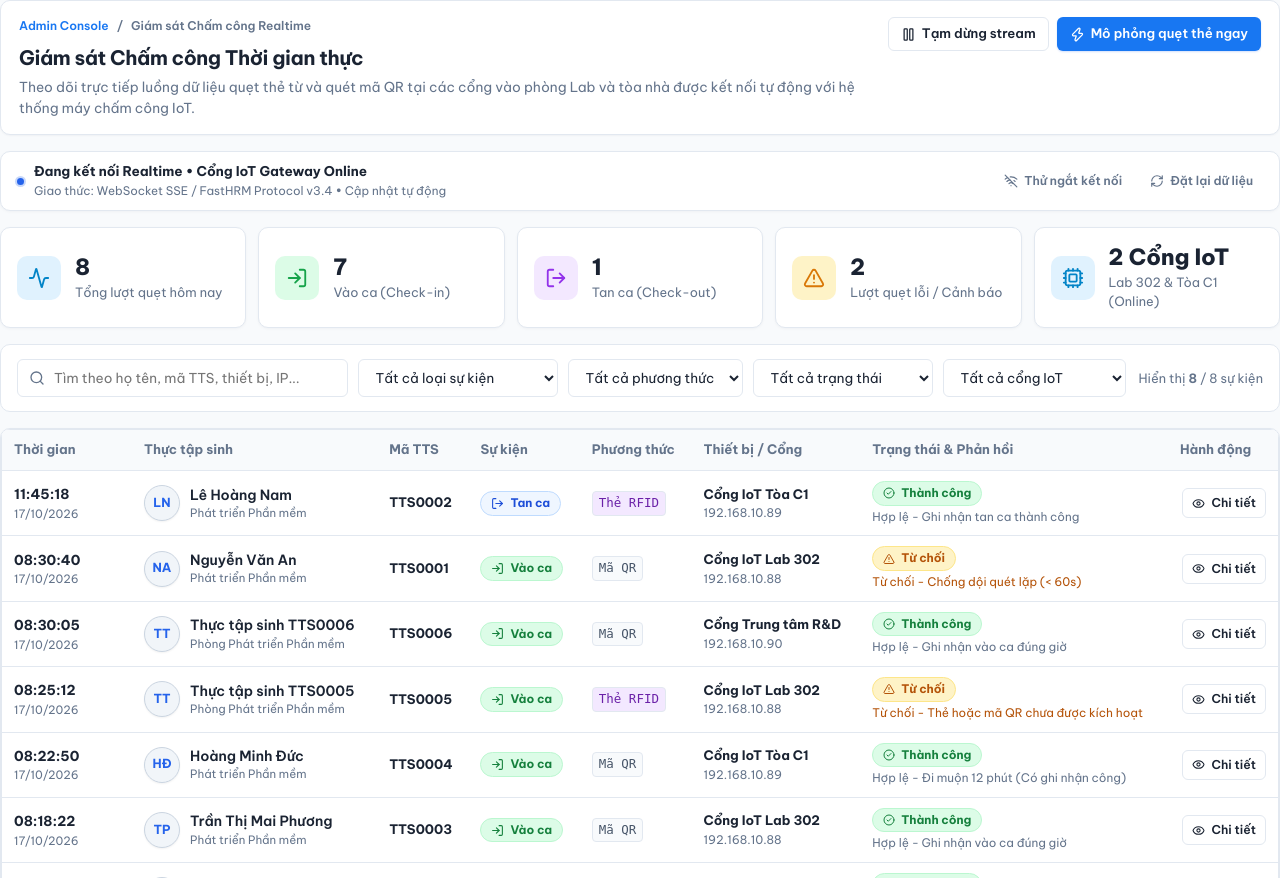
Test: RealtimeAttendanceMonitorPage - Màn hình Giám sát Chấm công Realtime › 10. Xử lý trạng thái Mất kết nối (Disconnected) và Kết nối lại (Reconnected)
The width and height of the screenshot is (1280, 878).
# Bấm nút thử ngắt kết nối
Click the button "Thử ngắt kết nối" at (1063, 181), box [994,166,1132,196]
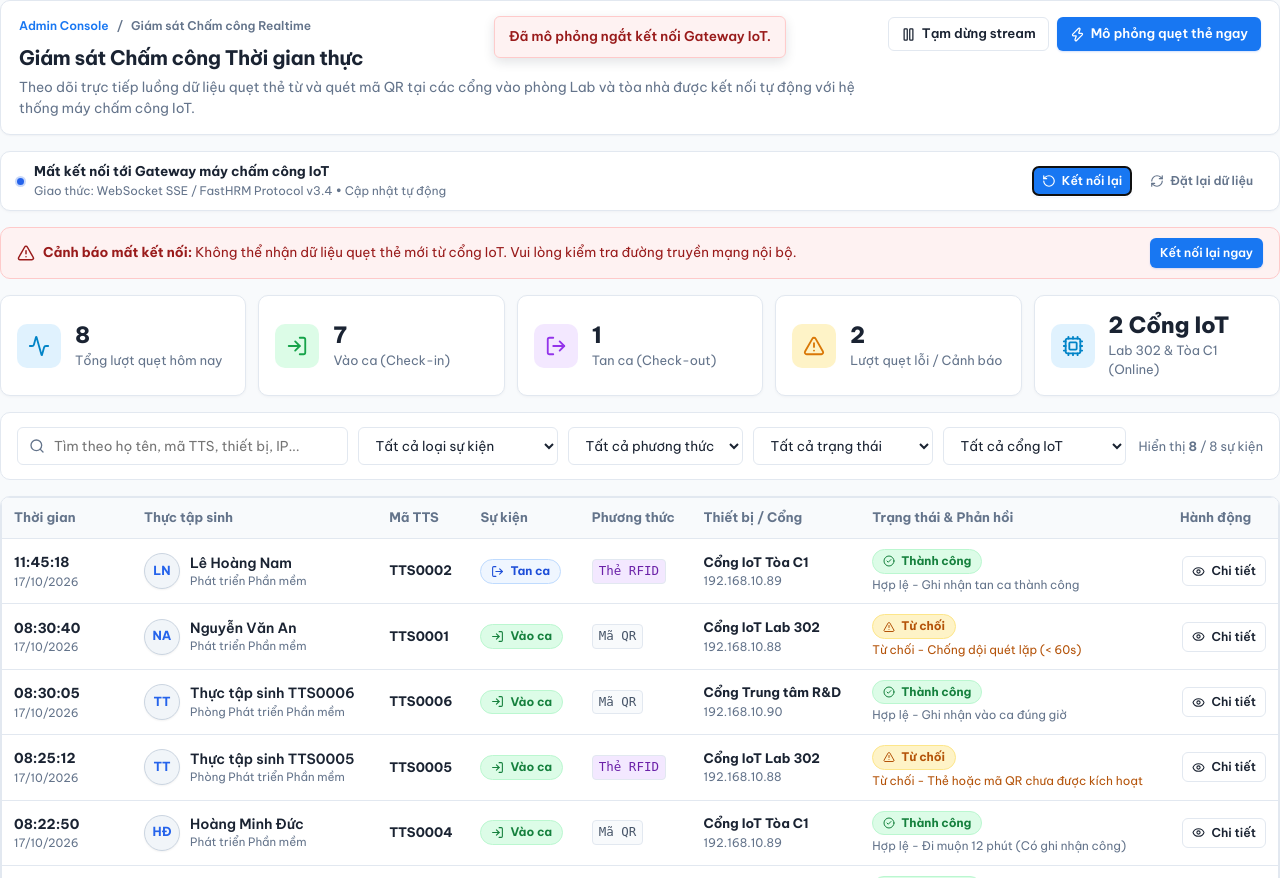
Expected: the element with test id "status-dot-disconnected" is shown, [17,178,24,185]
Expected: the text "Cảnh báo mất kết nối:" is shown, [43,244,192,261]
# Bấm nút kết nối lại
Click the button with test id "reconnect-btn" at (1082, 181), box [1032,166,1132,196]
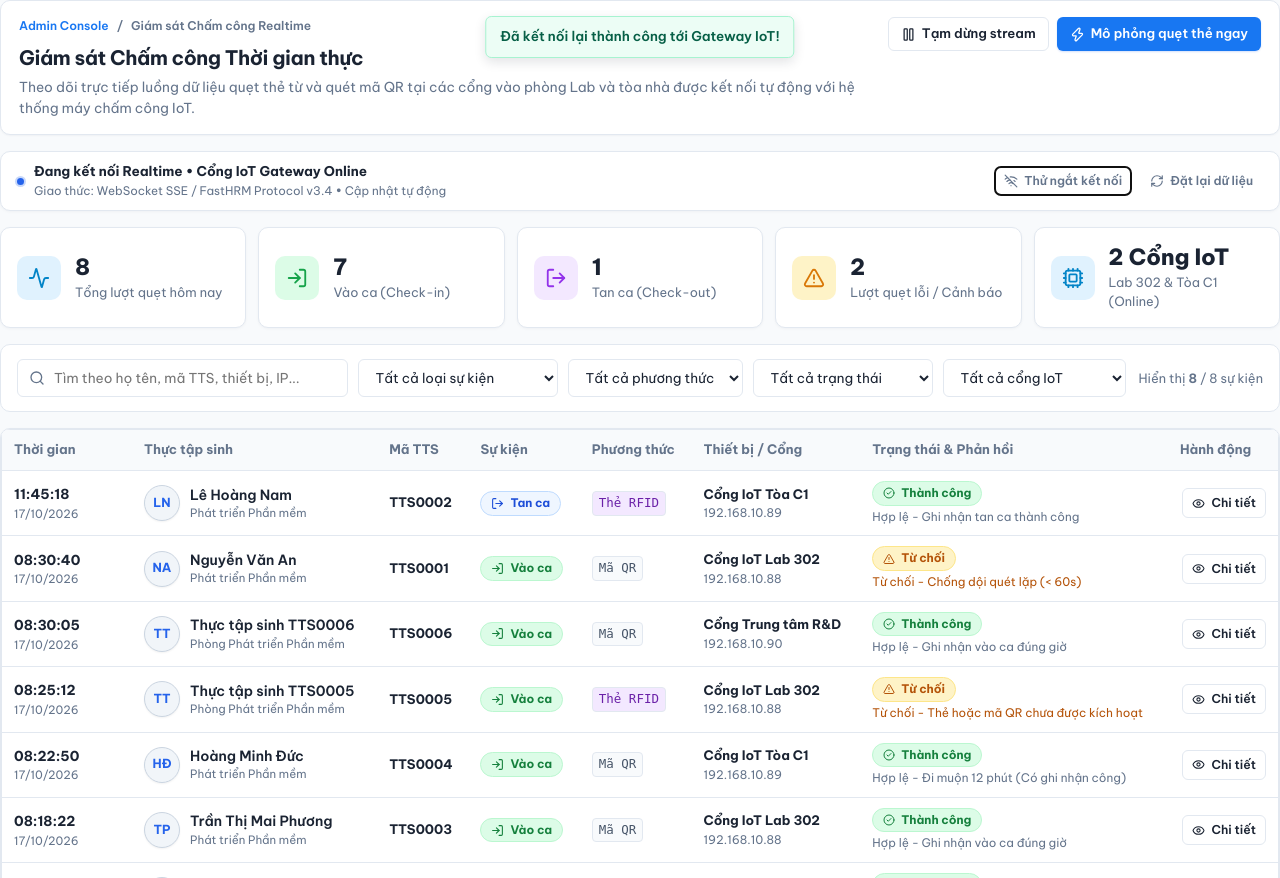
Expected: the text "Đang kết nối Realtime • Cổng IoT Gateway Online" is shown, [34,163,367,180]
